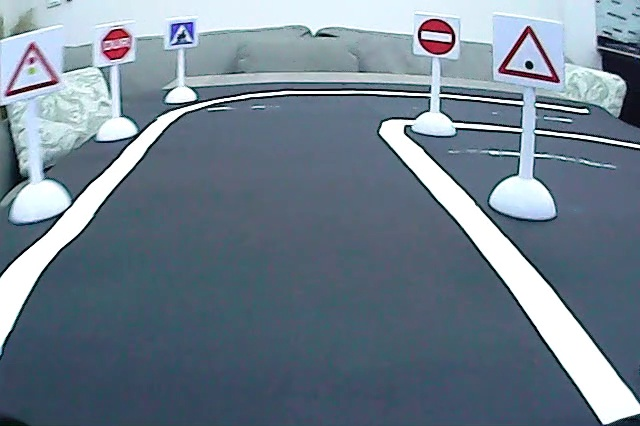do not enter: (416, 16, 458, 59)
green light: (494, 22, 564, 87)
red light: (1, 37, 62, 103)
school crossing: (169, 20, 195, 49)
stop sign: (98, 22, 137, 64)
